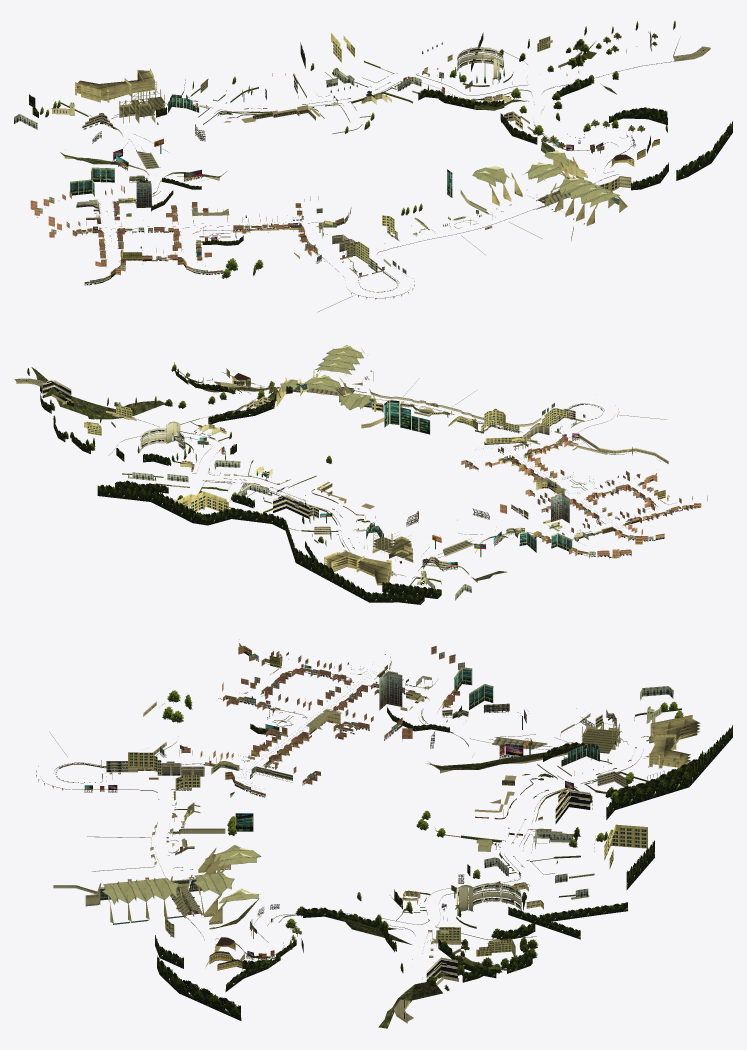
Rendered from track-US_C1_V2.glb.
3 renders of one model, top to bottom at view 1: azimuth 30°, elevation 25°; view 2: azimuth 150°, elevation 25°; view 3: azimuth 270°, elevation 25°, orthographic. The views are drawn at different scales.
Visible parts, largest first — view 1: US_C1_V2; view 2: US_C1_V2; view 3: US_C1_V2.
Part boxes in pixels (x1,y1,x2,y2): US_C1_V2: [14, 21, 732, 312]; US_C1_V2: [14, 345, 707, 604]; US_C1_V2: [36, 643, 732, 1028].
Bounding box in the file's own units: 2796 × 204 × 2095.
105 materials, 104 textured.
